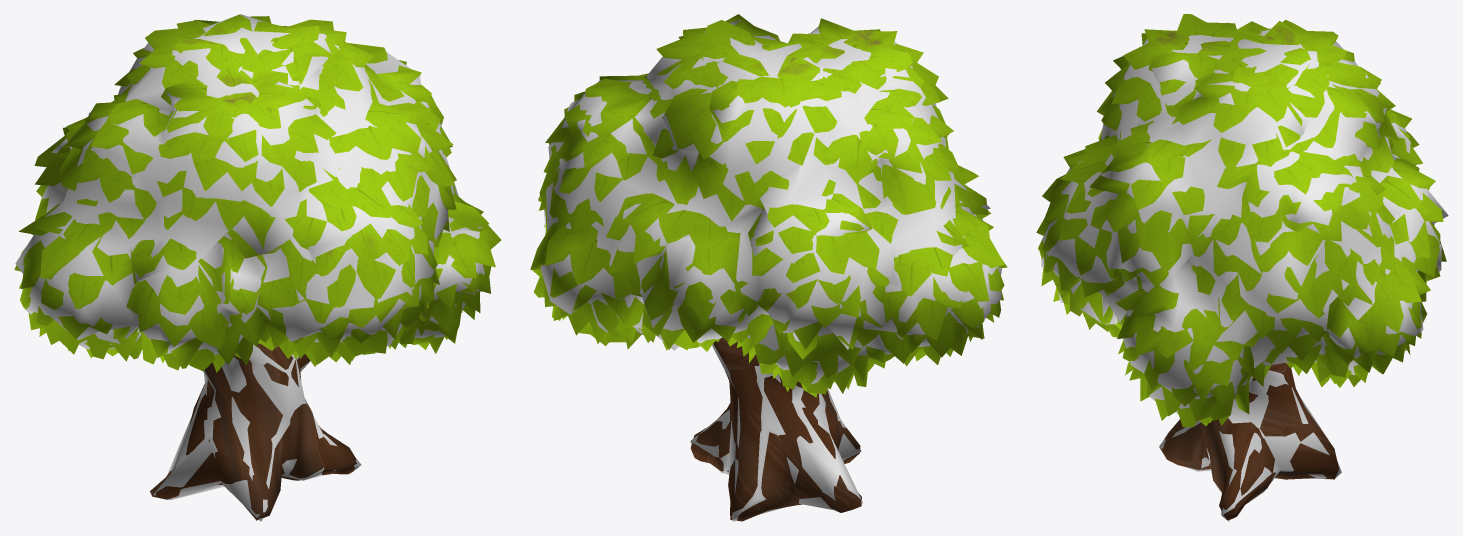
File: tree 1.fbx
3 renders of one model, left to right at view 1: azimuth 30°, elevation 25°; view 2: azimuth 150°, elevation 25°; view 3: azimuth 270°, elevation 25°, orthographic. The views are drawn at different scales.
Parts seen in each view (by area): view 1: Tree_Leaf_Cluster_LOD0, colider, Tree_Trunk_LOD0, colider_1; view 2: Tree_Leaf_Cluster_LOD0, colider, Tree_Trunk_LOD0, colider_1; view 3: Tree_Leaf_Cluster_LOD0, colider, Tree_Trunk_LOD0, colider_1.
Part boxes in pixels (left/top/right/bottom): Tree_Leaf_Cluster_LOD0: left=14, top=14, right=501, bottom=372; colider: left=15, top=14, right=484, bottom=354; Tree_Trunk_LOD0: left=150, top=343, right=356, bottom=520; colider_1: left=153, top=344, right=361, bottom=521; Tree_Leaf_Cluster_LOD0: left=530, top=14, right=1007, bottom=397; colider: left=540, top=20, right=1001, bottom=384; Tree_Trunk_LOD0: left=690, top=337, right=861, bottom=521; colider_1: left=690, top=344, right=862, bottom=521; Tree_Leaf_Cluster_LOD0: left=1036, top=14, right=1446, bottom=427; colider: left=1041, top=22, right=1448, bottom=412; Tree_Trunk_LOD0: left=1159, top=363, right=1338, bottom=520; colider_1: left=1159, top=369, right=1341, bottom=521.
Size of what is drawn, in the model's own units: 957 by 949 by 818.
Materials: 2 (2 with a texture image).
